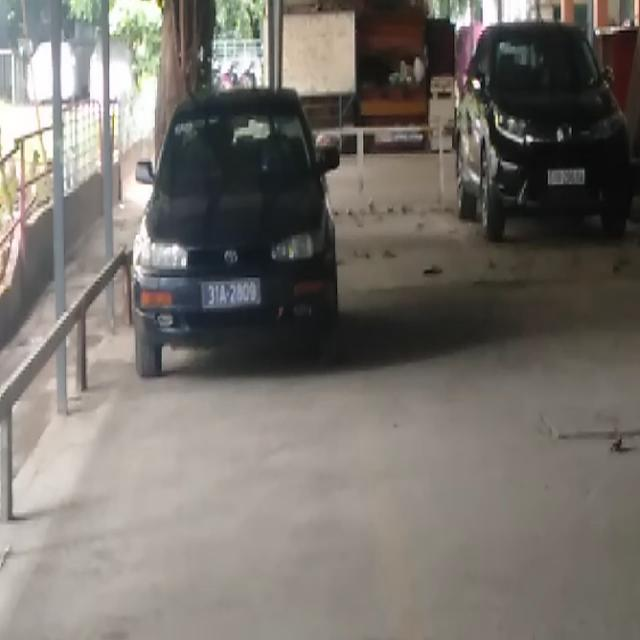bien_xanh: (199, 275, 263, 314)
